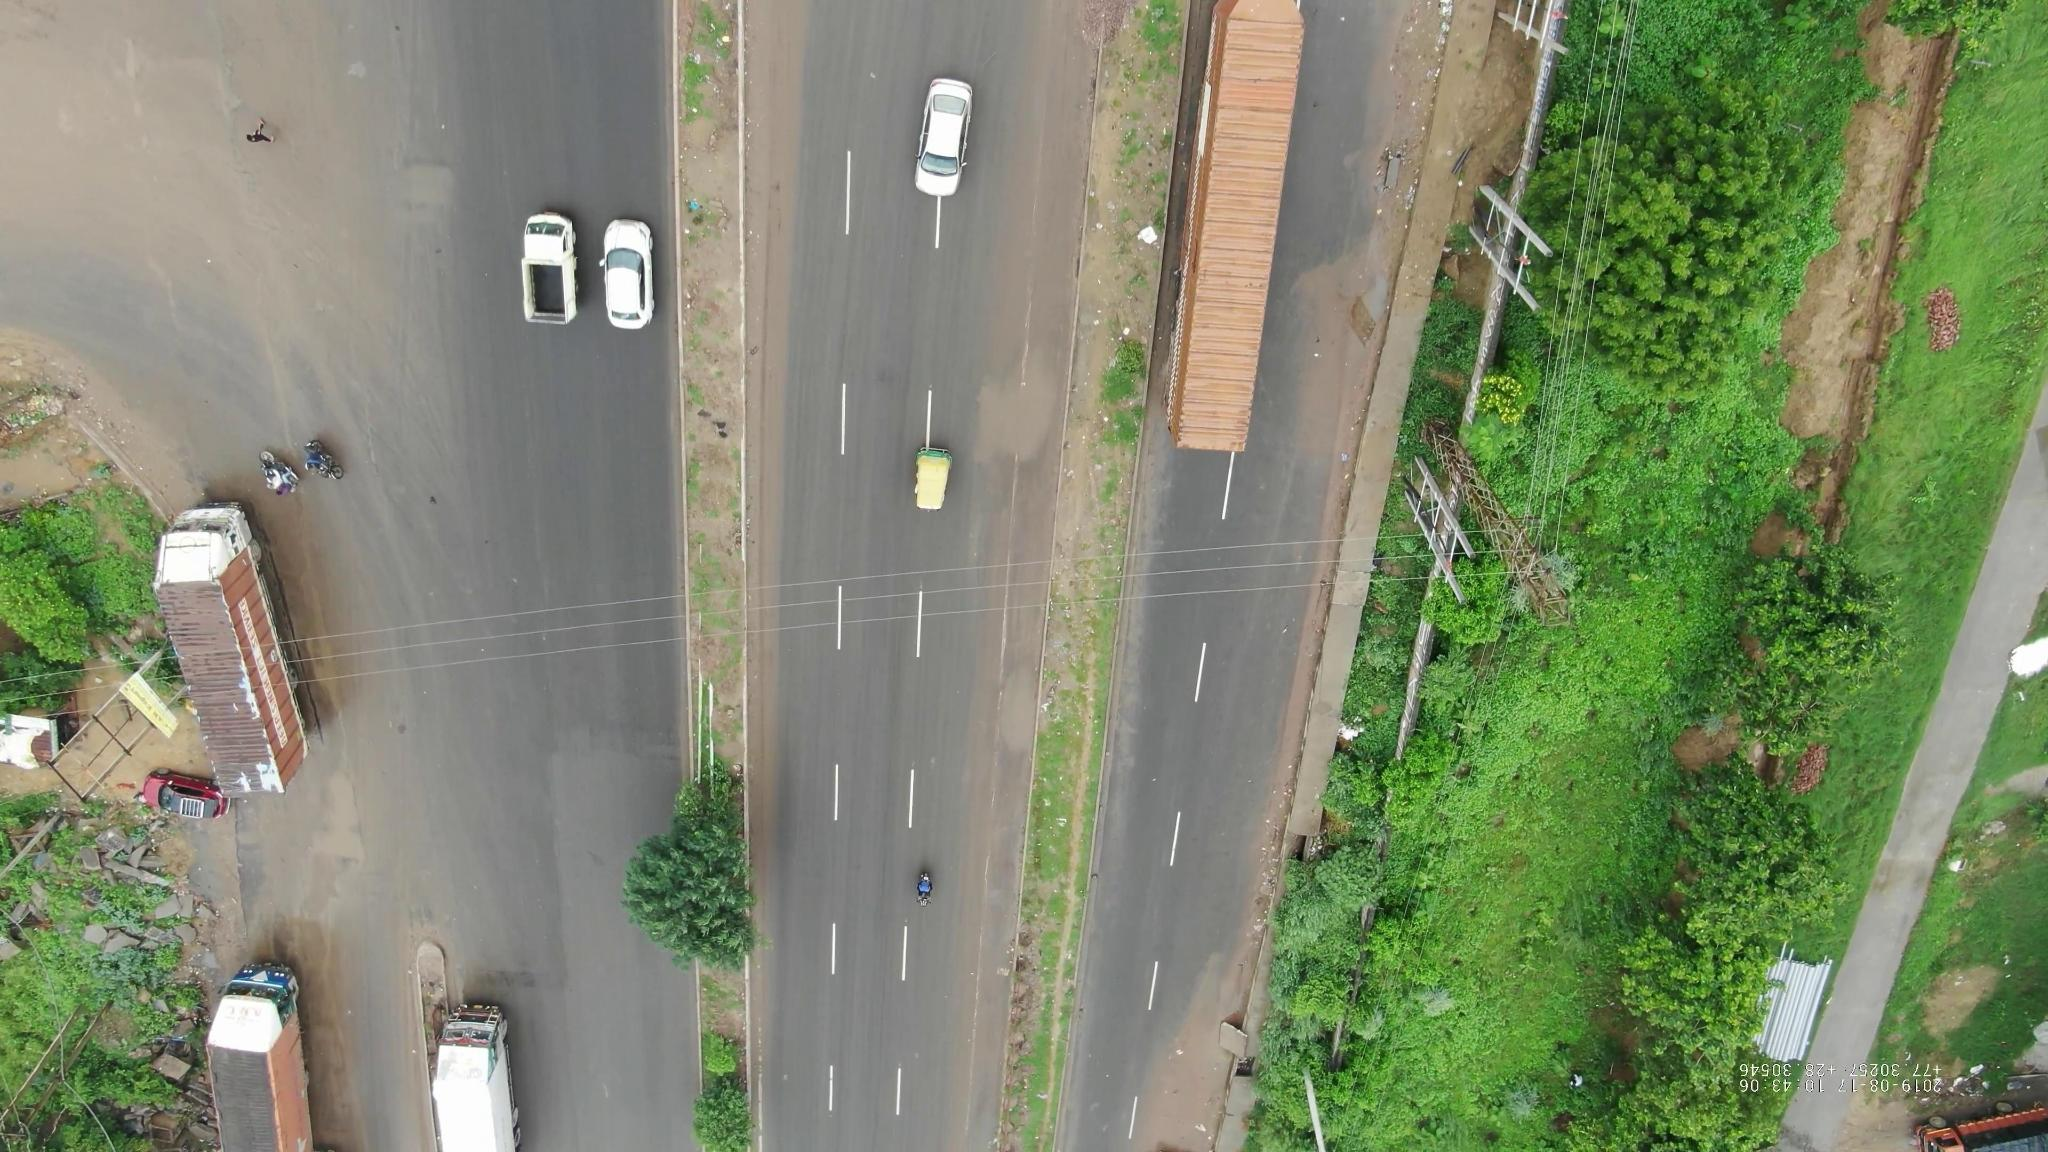Potholes: (321, 762, 391, 902)
Waterlogging: (961, 331, 1073, 494)
